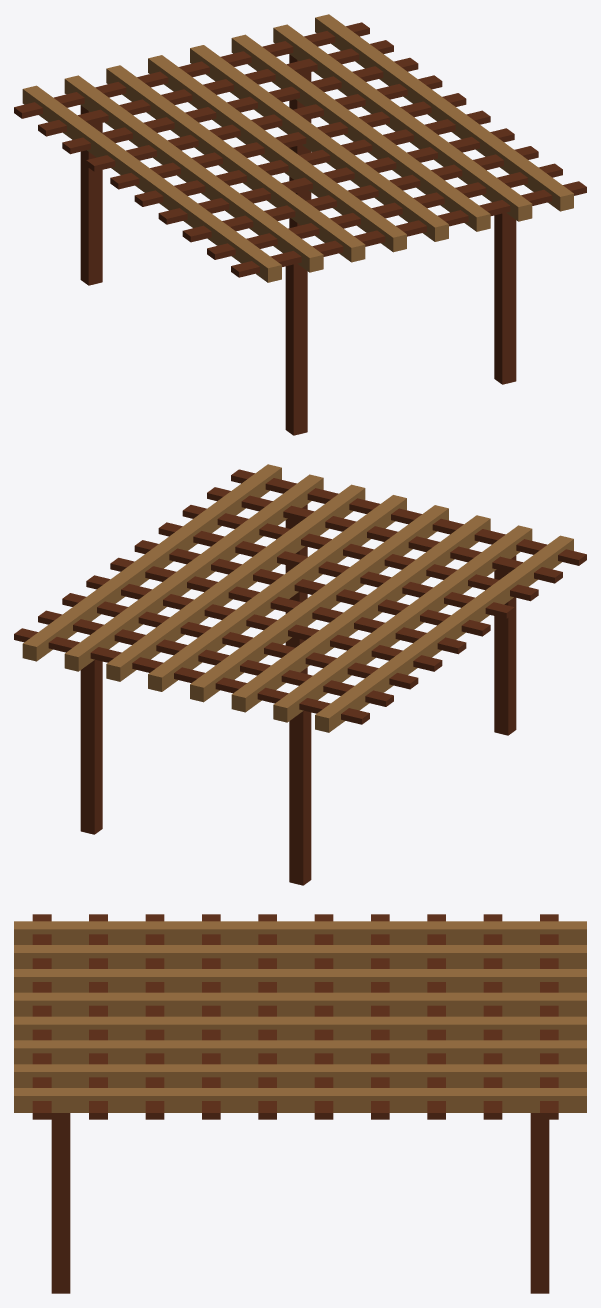
The model's file is roof.gltf.
3 renders of one model, top to bottom at view 1: azimuth 30°, elevation 25°; view 2: azimuth 150°, elevation 25°; view 3: azimuth 270°, elevation 25°, orthographic. The views are drawn at different scales.
Parts seen in each view (by area): view 1: cuboid (×22); view 2: cuboid (×22); view 3: cuboid (×20).
Part boxes in pixels (<box>): cuboid (×22): <box>14,14,586,435</box>; cuboid (×22): <box>14,464,586,885</box>; cuboid (×20): <box>14,914,586,1293</box>.
Size of the model in its own units: 1.56 by 0.8125 by 1.91.
1 material, 1 textured.
